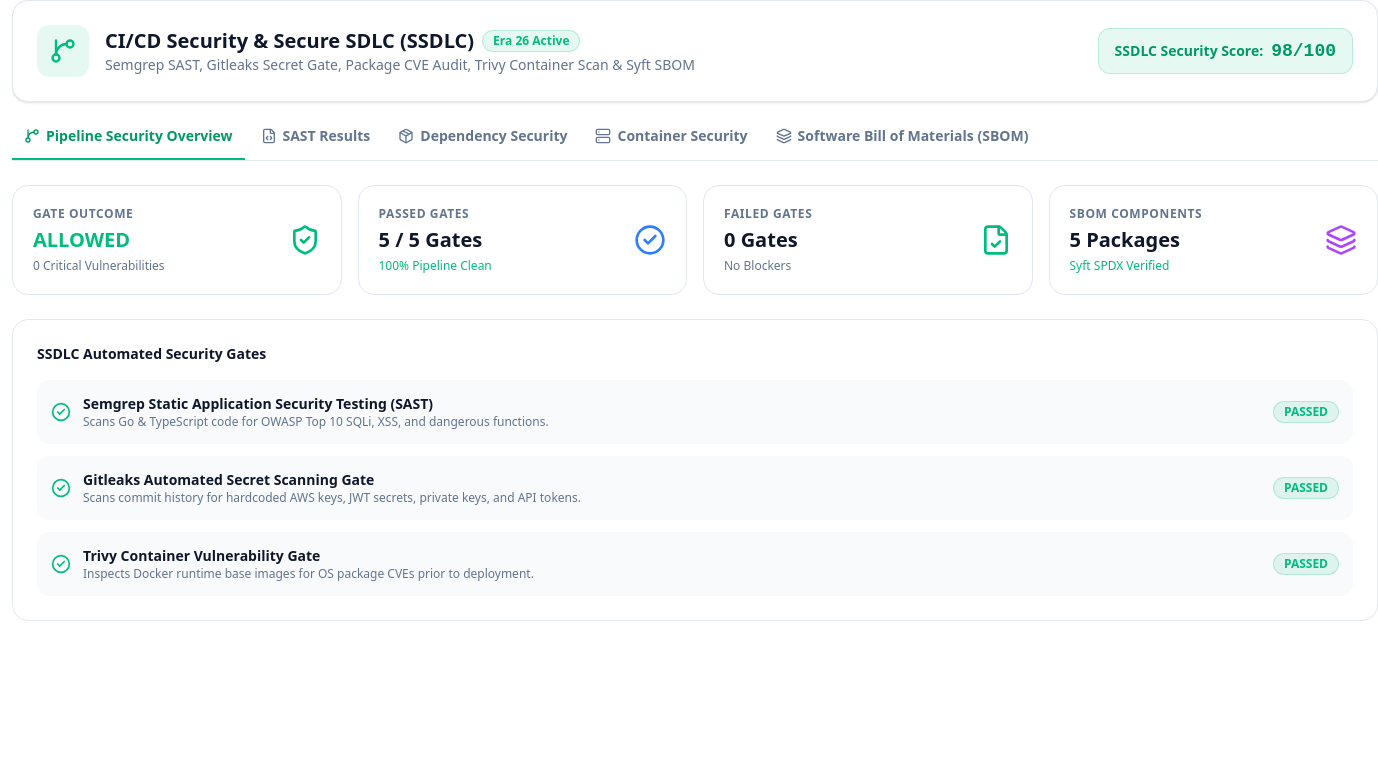
Test: CICDSecurityDashboard › clicking SBOM tab shows package inventory table
Step 1. Click the button "Software Bill of Materials (SBOM)" → point(902, 143), box x1=764 y1=126 x2=1040 y2=160
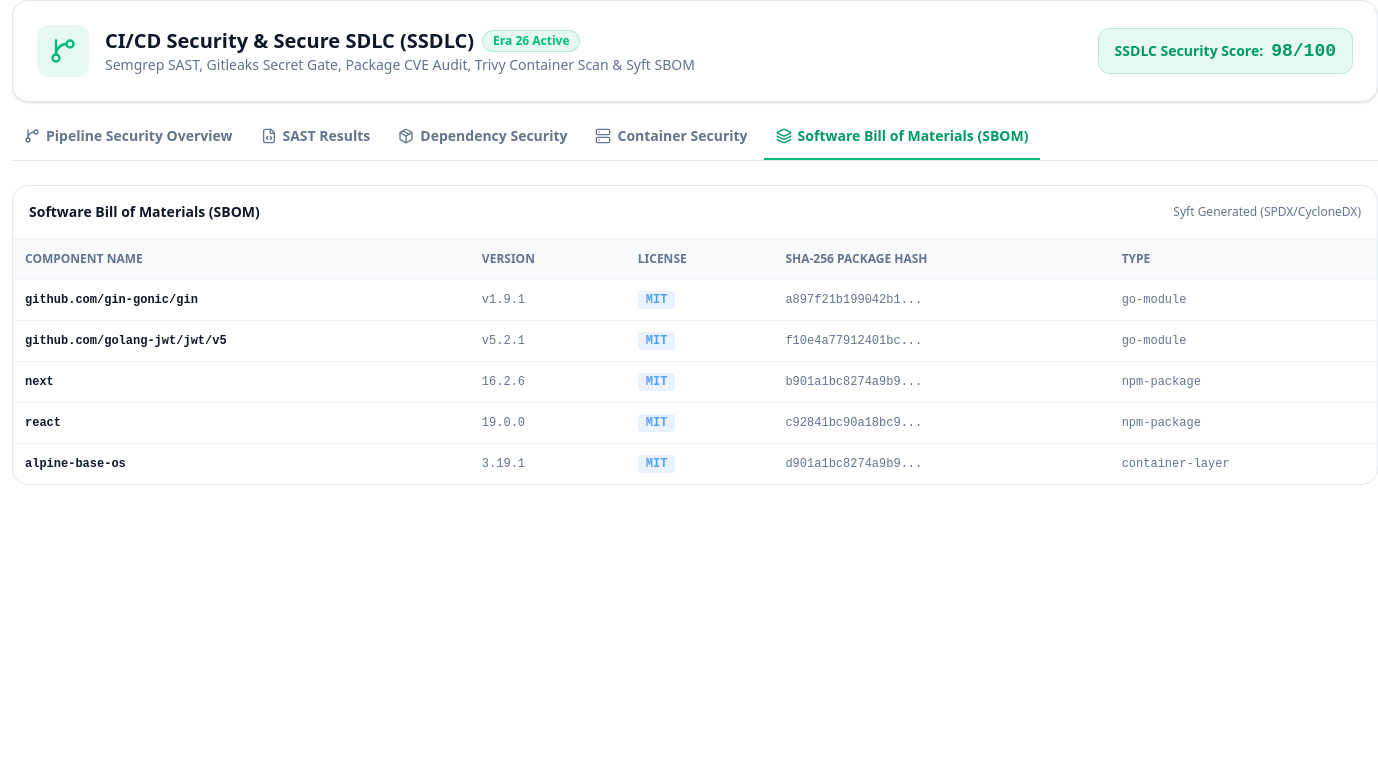
Expected: the text "alpine-base-os" is shown, x1=13 y1=444 x2=470 y2=484
